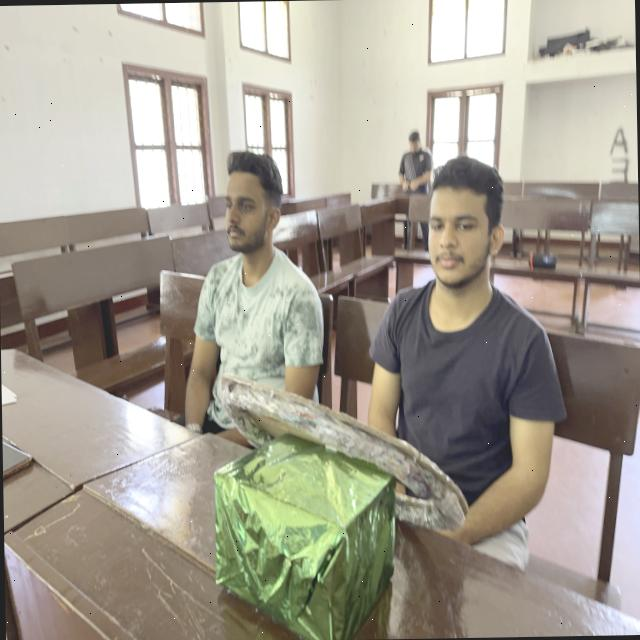Helmet: (351, 282, 566, 546), (178, 248, 324, 445)
